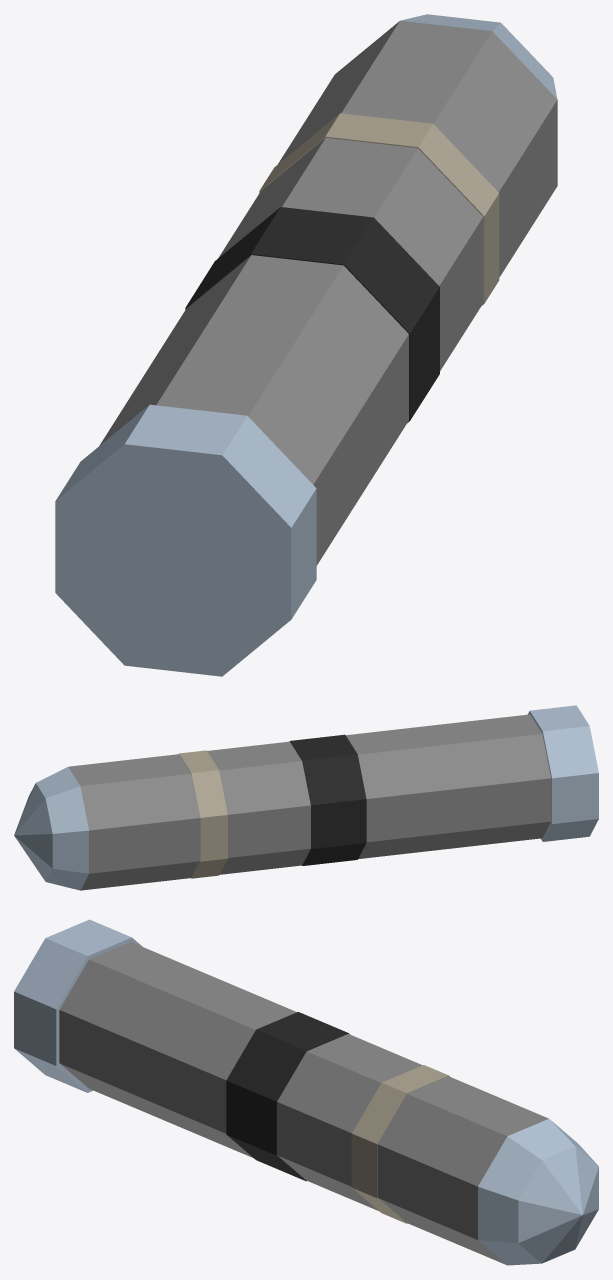
The model's file is ce_ammo2_tow_heat_a.obj.
3 views of the same model, one above another, from view 1: azimuth 30°, elevation 25°; view 2: azimuth 150°, elevation 25°; view 3: azimuth 270°, elevation 25° (orthographic). The views are drawn at different scales.
Visible parts, largest first — view 1: ce_ammo2_tow_heat_a_0, ce_ammo2_tow_heat_a_1, ce_ammo2_tow_heat_a_5, ce_ammo2_tow_heat_a_3, ce_ammo2_tow_heat_a_2, ce_ammo2_tow_heat_a_4, ce_ammo2_tow_heat_a_6; view 2: ce_ammo2_tow_heat_a_1, ce_ammo2_tow_heat_a_5, ce_ammo2_tow_heat_a_3, ce_ammo2_tow_heat_a_2, ce_ammo2_tow_heat_a_0, ce_ammo2_tow_heat_a_6, ce_ammo2_tow_heat_a_4, ce_ammo2_tow_heat_a_7; view 3: ce_ammo2_tow_heat_a_1, ce_ammo2_tow_heat_a_5, ce_ammo2_tow_heat_a_3, ce_ammo2_tow_heat_a_2, ce_ammo2_tow_heat_a_0, ce_ammo2_tow_heat_a_7, ce_ammo2_tow_heat_a_6, ce_ammo2_tow_heat_a_4.
Part boxes in pixels (bbox=[...]): ce_ammo2_tow_heat_a_0: bbox=[55, 404, 316, 676]; ce_ammo2_tow_heat_a_1: bbox=[99, 255, 408, 565]; ce_ammo2_tow_heat_a_5: bbox=[278, 20, 557, 277]; ce_ammo2_tow_heat_a_3: bbox=[218, 138, 483, 370]; ce_ammo2_tow_heat_a_2: bbox=[185, 207, 439, 422]; ce_ammo2_tow_heat_a_4: bbox=[259, 113, 499, 305]; ce_ammo2_tow_heat_a_6: bbox=[401, 14, 557, 99]; ce_ammo2_tow_heat_a_1: bbox=[346, 714, 551, 858]; ce_ammo2_tow_heat_a_5: bbox=[68, 754, 199, 890]; ce_ammo2_tow_heat_a_3: bbox=[207, 741, 310, 874]; ce_ammo2_tow_heat_a_2: bbox=[289, 734, 366, 865]; ce_ammo2_tow_heat_a_0: bbox=[528, 705, 598, 841]; ce_ammo2_tow_heat_a_6: bbox=[36, 767, 88, 890]; ce_ammo2_tow_heat_a_4: bbox=[179, 750, 227, 878]; ce_ammo2_tow_heat_a_7: bbox=[14, 783, 52, 881]; ce_ammo2_tow_heat_a_1: bbox=[59, 942, 296, 1157]; ce_ammo2_tow_heat_a_5: bbox=[377, 1076, 548, 1264]; ce_ammo2_tow_heat_a_3: bbox=[277, 1034, 422, 1210]; ce_ammo2_tow_heat_a_2: bbox=[226, 1012, 349, 1181]; ce_ammo2_tow_heat_a_0: bbox=[14, 919, 142, 1092]; ce_ammo2_tow_heat_a_7: bbox=[518, 1146, 598, 1263]; ce_ammo2_tow_heat_a_6: bbox=[478, 1119, 597, 1265]; ce_ammo2_tow_heat_a_4: bbox=[351, 1065, 450, 1223].
Bounding box in the file's own units: 0.6821 × 0.1762 × 0.6821.
